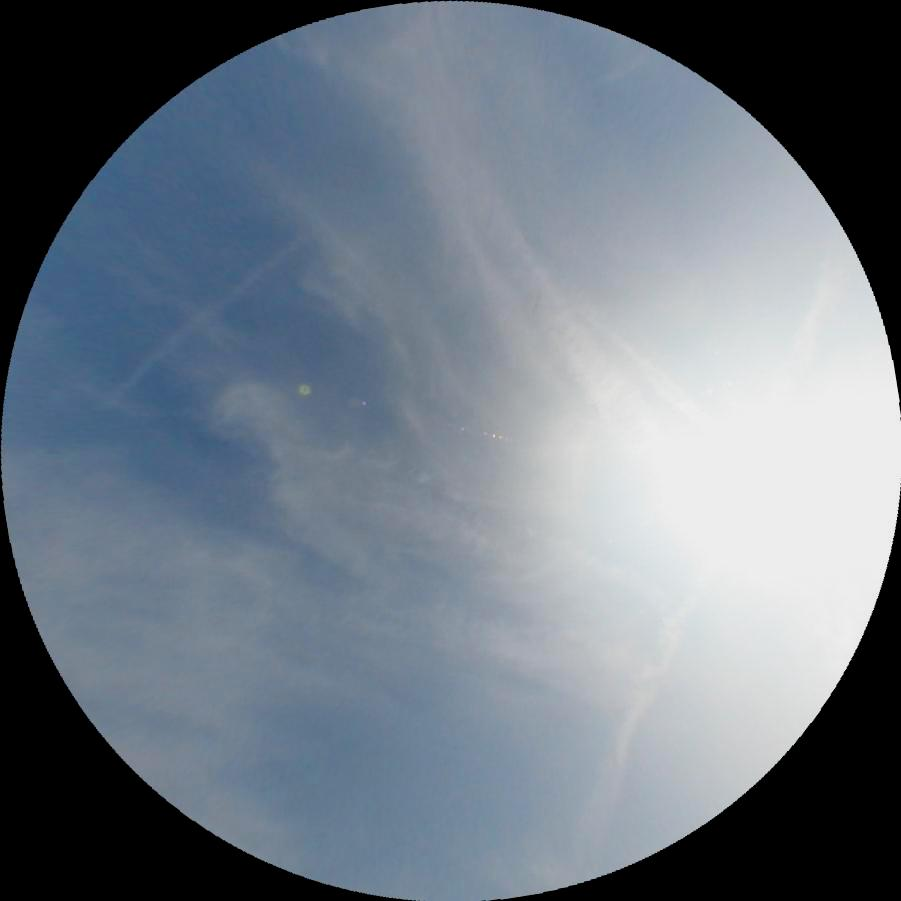contrail veryold: (559, 226, 867, 877), (477, 194, 679, 479), (93, 232, 306, 410), (540, 262, 715, 433)
sun: (661, 396, 901, 604)
